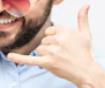clockwise: (5, 3, 95, 74)
